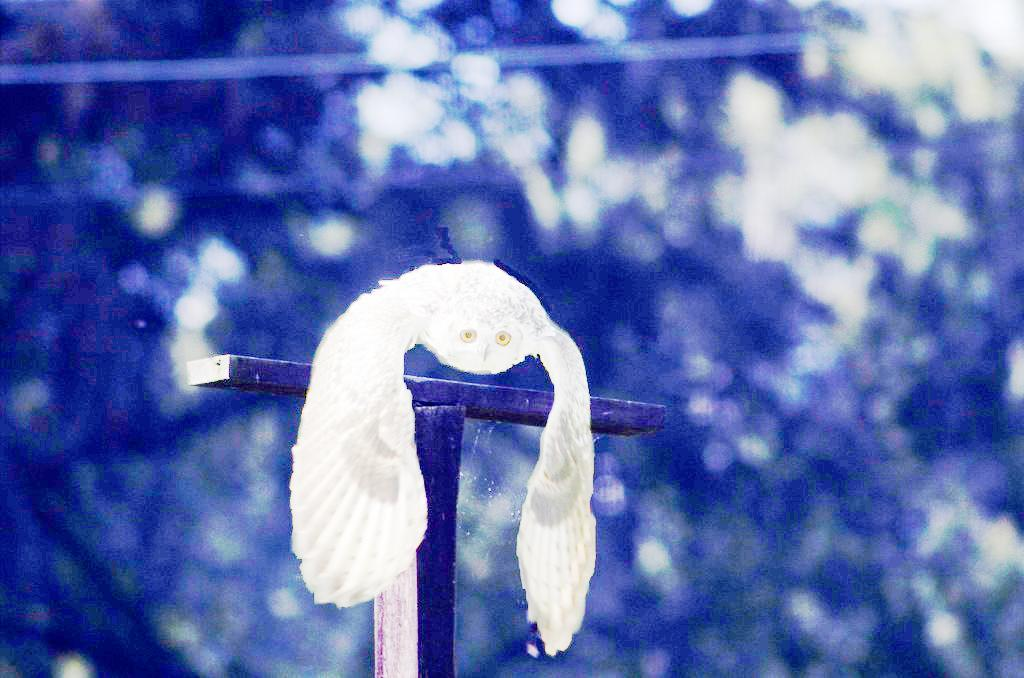Owl: (290, 260, 602, 656)
